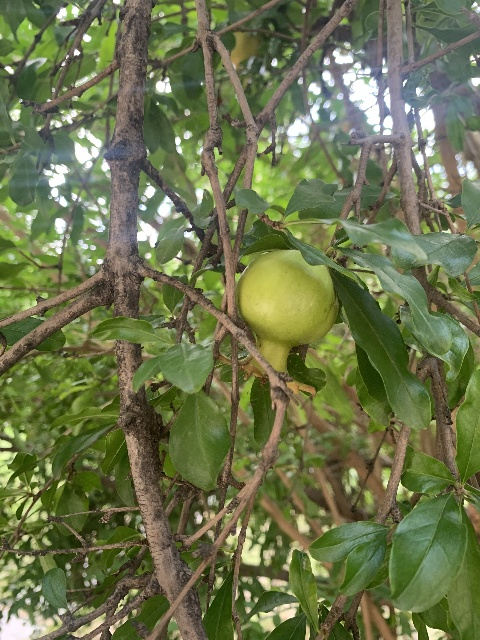mid-growth: (235, 248, 338, 397)
